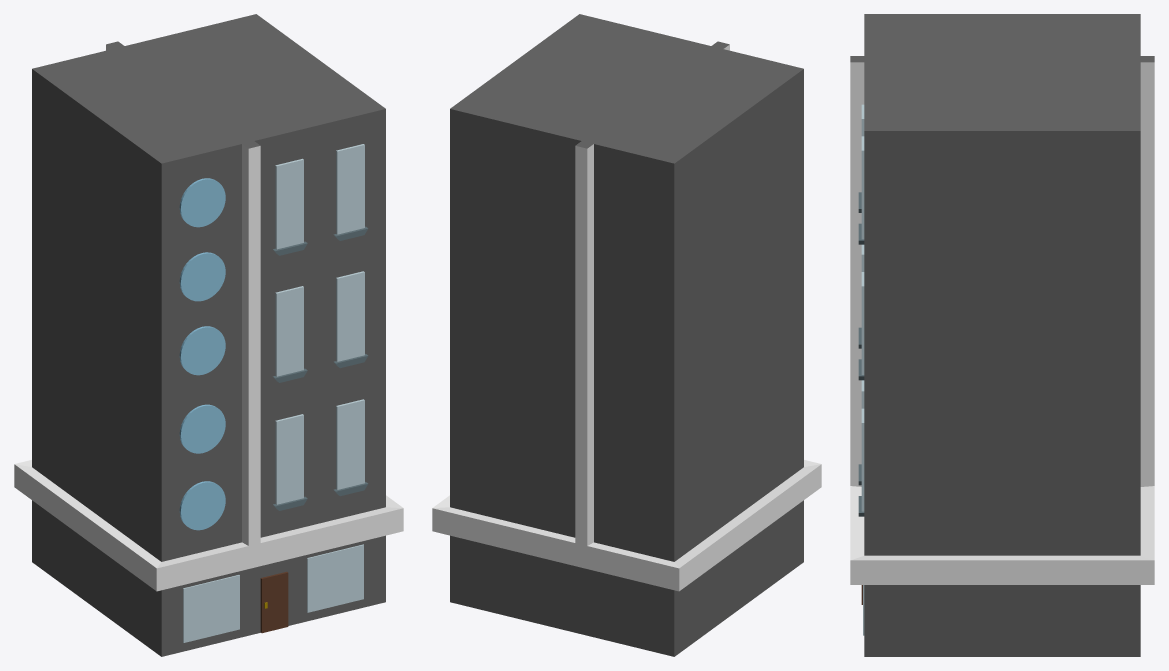
File: buildingA1.fbx
3 views of the same model, side by side, from view 1: azimuth 30°, elevation 25°; view 2: azimuth 150°, elevation 25°; view 3: azimuth 270°, elevation 25° (orthographic). The views are drawn at different scales.
Visible parts, largest first — view 1: Cube; view 2: Cube; view 3: Cube.
Boxes of the visible parts, x1,y1,x2,y2 form: Cube: (14,14,403,656); Cube: (432,14,821,656); Cube: (850,14,1154,656).
Bounding box in the file's own units: 1100 × 2100 × 1100.
